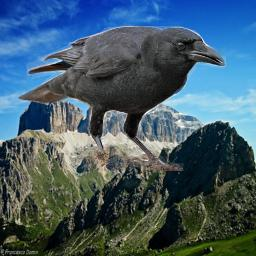Crow: (17, 26, 226, 171)
